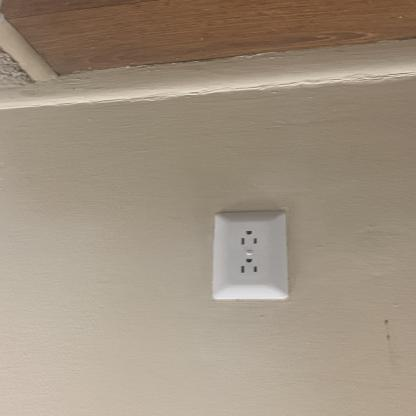OUTLET: (210, 209, 288, 302)
